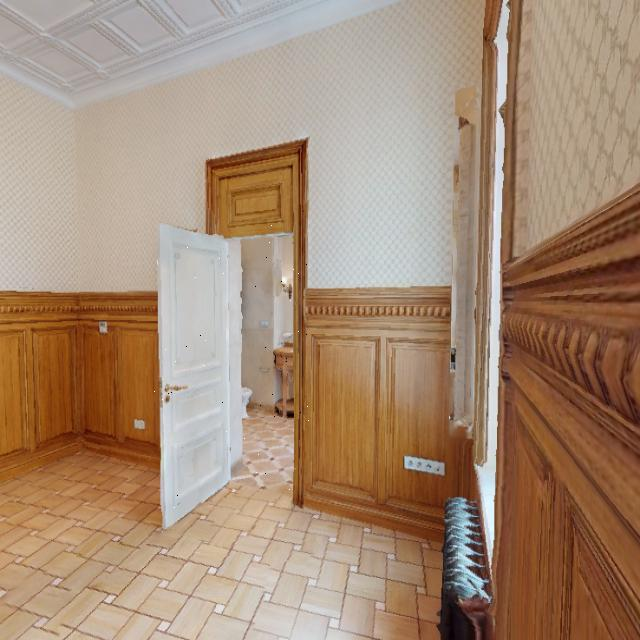door: (152, 219, 243, 534)
door-frame: (222, 206, 310, 508)
